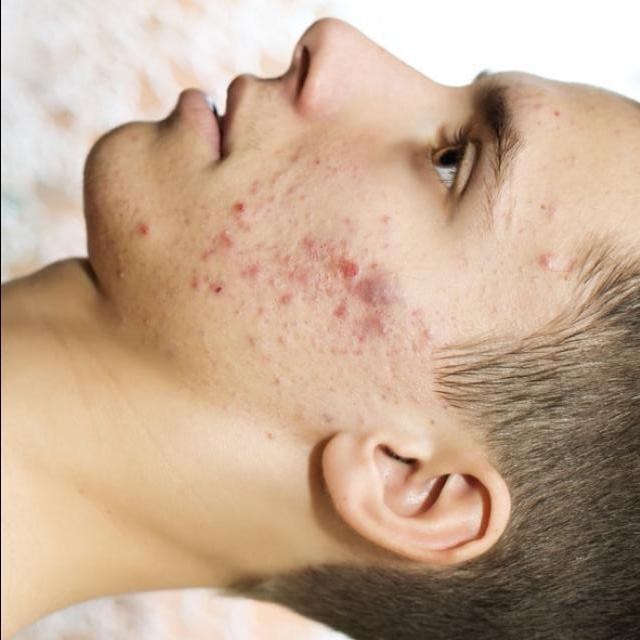Acne: (115, 197, 440, 364), (539, 95, 578, 283)
